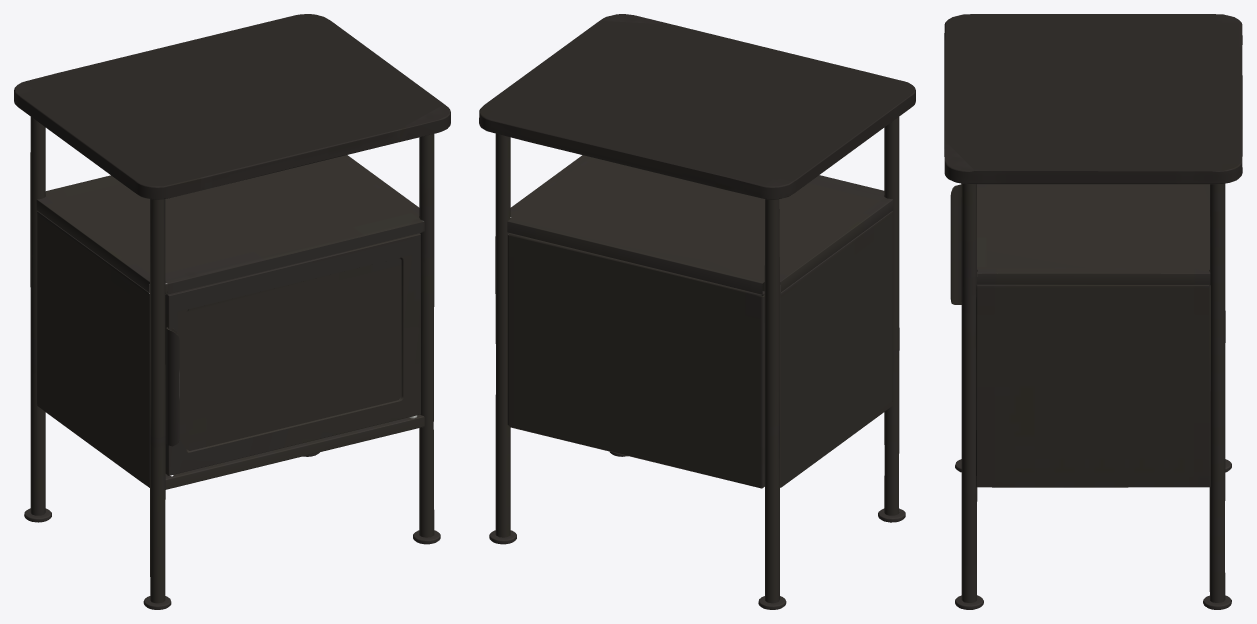
The picture shows the model from 3 angles, left to right: view 1: azimuth 30°, elevation 25°; view 2: azimuth 150°, elevation 25°; view 3: azimuth 270°, elevation 25°; orthographic projection. The views are drawn at different scales.
Visible parts, largest first — view 1: ASY_ART_20570221_S01_NV01; view 2: ASY_ART_20570221_S01_NV01; view 3: ASY_ART_20570221_S01_NV01.
Boxes of the visible parts, x1,y1,x2,y2 form: ASY_ART_20570221_S01_NV01: (14,14,450,609); ASY_ART_20570221_S01_NV01: (479,14,915,609); ASY_ART_20570221_S01_NV01: (944,14,1242,609).
Bounding box in the file's own units: 0.4506 × 0.5926 × 0.3605.
Materials: 1 (1 with a texture image).
